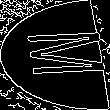M_E: (5, 29, 105, 81)
